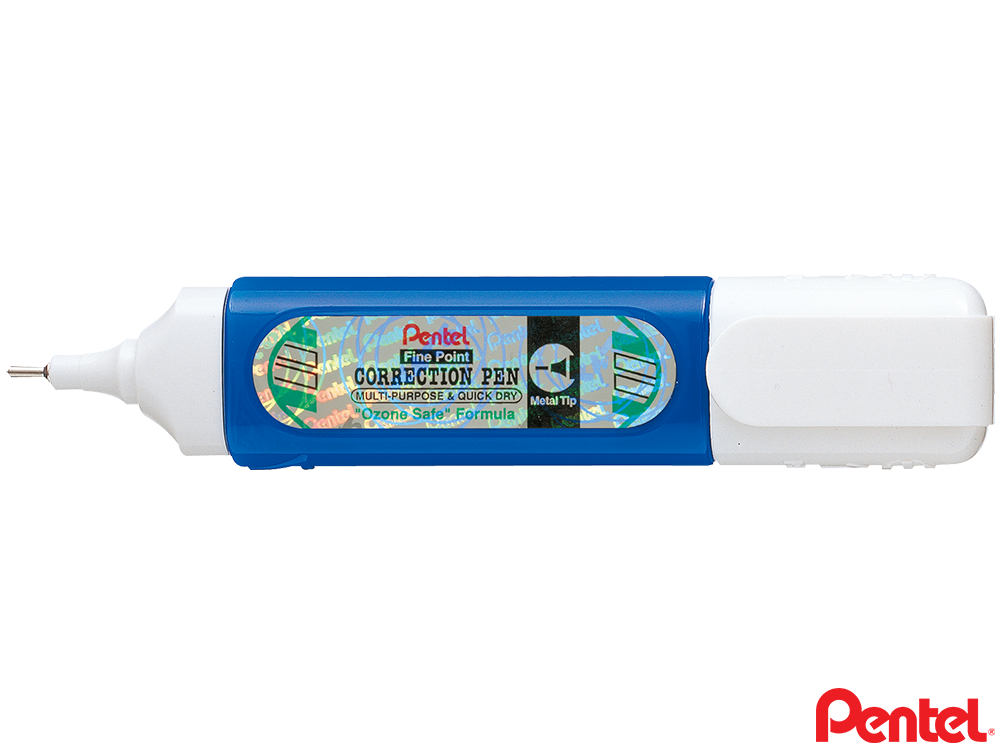Correction_fluid: (3, 275, 1000, 473)
